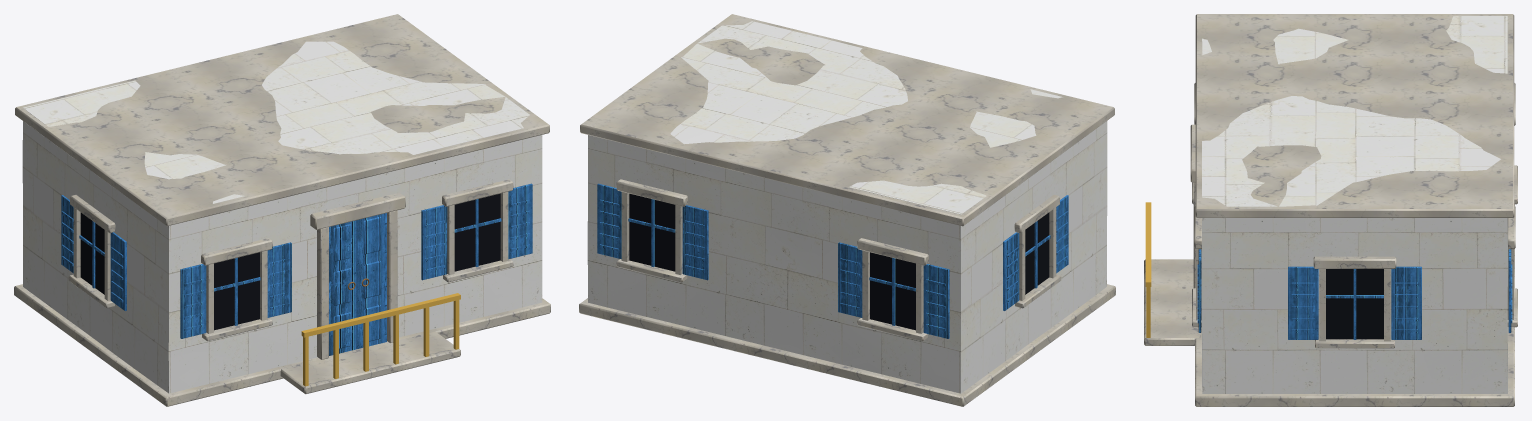
File: home_villa-upper_t3_marble.glb
The picture shows the model from 3 angles, left to right: view 1: azimuth 30°, elevation 25°; view 2: azimuth 150°, elevation 25°; view 3: azimuth 270°, elevation 25°; orthographic projection. The views are drawn at different scales.
Parts seen in each view (by area): view 1: hall, marble, azure_wood, dark, gold; view 2: hall, marble, azure_wood, dark; view 3: hall, marble, azure_wood, dark, gold.
Boxes of the visible parts, x1,y1,x2,y2 form: hall: [22, 41, 542, 393]; marble: [14, 14, 550, 406]; azure_wood: [61, 183, 532, 355]; dark: [80, 193, 500, 330]; gold: [301, 293, 460, 386]; hall: [587, 21, 1107, 393]; marble: [579, 14, 1115, 406]; azure_wood: [597, 183, 1068, 338]; dark: [629, 193, 1049, 330]; hall: [1202, 16, 1507, 393]; marble: [1144, 14, 1517, 406]; azure_wood: [1197, 249, 1512, 339]; dark: [1326, 269, 1383, 339]; gold: [1145, 202, 1151, 337].
Size of the model in its own units: 6.48 by 3.01 by 5.14.
Materials: 6 (4 with a texture image).
